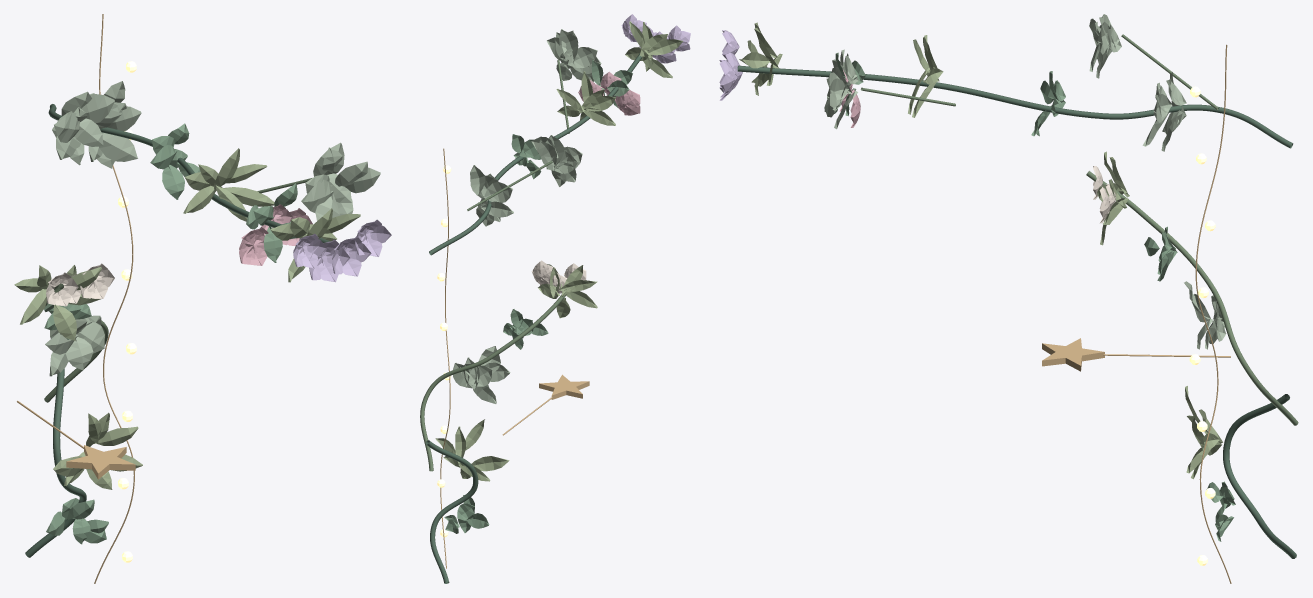
Rendered from moonroom-decor-phase01-ceiling-sample.glb.
3 renders of one model, left to right at view 1: azimuth 30°, elevation 25°; view 2: azimuth 150°, elevation 25°; view 3: azimuth 270°, elevation 25°, orthographic. The views are drawn at different scales.
Parts seen in each view (by area): view 1: D01_Flower_Lavender_01, D01_LeafCluster_11_2, D01_LeafCluster_07_1, D01_LeafCluster_08_2, D01_LeafCluster_05_2, D01_LeafCluster_04_1, D01_LeafCluster_02_2, D01_LeafCluster_01_1, D01_LeafCluster_06_0, D01_LeafCluster_10_1, D01_LeafCluster_00_0, D01_Flower_Ivory_01 (+8 smaller); view 2: D01_LeafCluster_11_2, D01_LeafCluster_02_2, D01_LeafCluster_08_2, D01_LeafCluster_05_2, D01_LeafCluster_01_1, D01_LeafCluster_10_1, D01_LeafCluster_07_1, D01_LeafCluster_04_1, D01_Vine_MediumCurved, D01_Vine_ShortClimber, D01_Vine_LongHanging, D01_Flower_Lavender_01 (+8 smaller); view 3: D01_Vine_LongHanging, D01_Vine_MediumCurved, D01_Vine_ShortClimber, D01_LeafCluster_05_2, D01_LeafCluster_11_2, D01_HangingStar_Brass, D01_LeafCluster_10_1, D01_LeafCluster_01_1, D01_LeafCluster_08_2, D01_LeafCluster_02_2, D01_FairyWire, D01_LeafCluster_07_1 (+4 smaller).
Boxes of the visible parts, x1,y1,x2,y2 form: D01_Flower_Lavender_01: (293, 219, 391, 282); D01_LeafCluster_11_2: (301, 142, 380, 220); D01_LeafCluster_07_1: (183, 148, 274, 221); D01_LeafCluster_08_2: (52, 91, 114, 165); D01_LeafCluster_05_2: (88, 81, 141, 168); D01_LeafCluster_04_1: (14, 265, 101, 340); D01_LeafCluster_02_2: (45, 315, 104, 376); D01_LeafCluster_01_1: (53, 412, 142, 489); D01_LeafCluster_06_0: (150, 123, 200, 199); D01_LeafCluster_10_1: (270, 208, 360, 282); D01_LeafCluster_00_0: (46, 498, 108, 544); D01_Flower_Ivory_01: (46, 263, 114, 306); D01_LeafCluster_11_2: (546, 29, 601, 81); D01_LeafCluster_02_2: (453, 346, 510, 403); D01_LeafCluster_08_2: (531, 135, 582, 186); D01_LeafCluster_05_2: (470, 165, 513, 226); D01_LeafCluster_01_1: (435, 419, 509, 481); D01_LeafCluster_10_1: (625, 21, 683, 78); D01_LeafCluster_07_1: (556, 71, 615, 125); D01_LeafCluster_04_1: (538, 264, 597, 318); D01_Vine_MediumCurved: (420, 294, 566, 471); D01_Vine_ShortClimber: (425, 440, 478, 583); D01_Vine_LongHanging: (429, 53, 642, 255); D01_Flower_Lavender_01: (621, 14, 690, 63); D01_Vine_LongHanging: (737, 65, 1293, 148); D01_Vine_MediumCurved: (1086, 171, 1298, 425); D01_Vine_ShortClimber: (1223, 394, 1296, 558); D01_LeafCluster_05_2: (1142, 72, 1186, 151); D01_LeafCluster_11_2: (824, 49, 858, 129); D01_HangingStar_Brass: (1042, 338, 1104, 371); D01_LeafCluster_10_1: (739, 22, 782, 95); D01_LeafCluster_01_1: (1185, 386, 1222, 479); D01_LeafCluster_08_2: (1089, 14, 1121, 78); D01_LeafCluster_02_2: (1184, 281, 1226, 349); D01_FairyWire: (1195, 44, 1231, 583); D01_LeafCluster_07_1: (908, 35, 943, 117).
Size of the model in its own units: 1.1 by 2.79 by 2.67.
